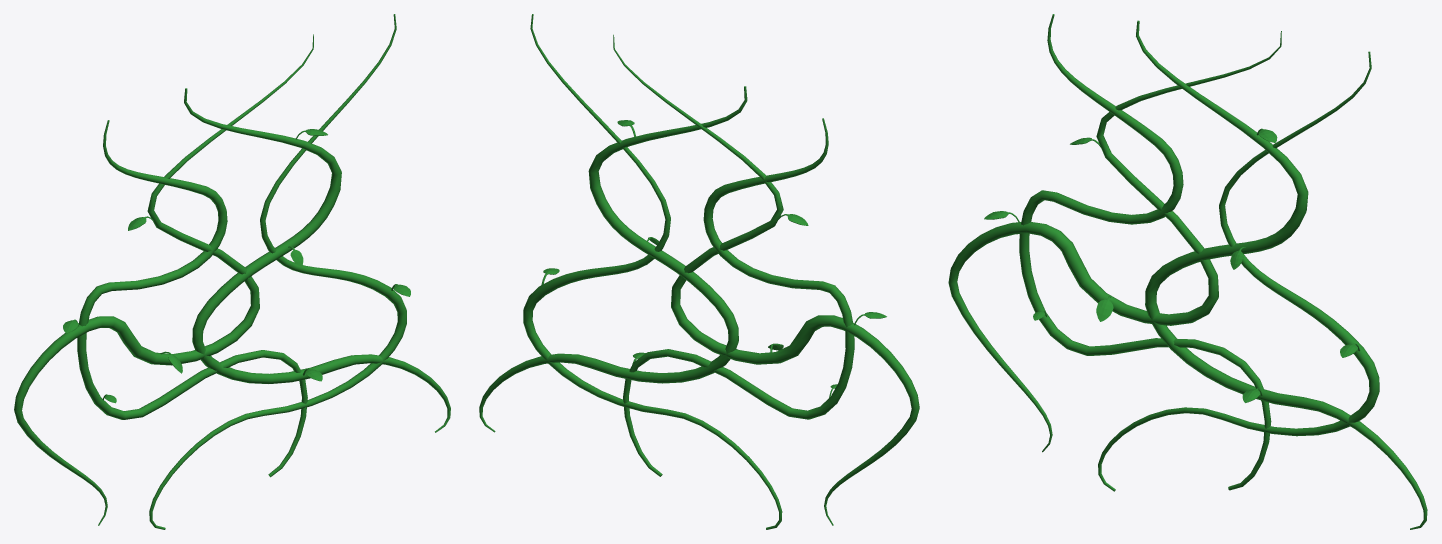
Rendered from enrredaderatrepar.fbx.
3 renders of one model, left to right at view 1: azimuth 30°, elevation 25°; view 2: azimuth 150°, elevation 25°; view 3: azimuth 330°, elevation 25°, orthographic. The views are drawn at different scales.
Visible parts, largest first — view 1: BézierCurve; view 2: BézierCurve; view 3: BézierCurve.
Part boxes in pixels (left/top/right/bottom): BézierCurve: left=14, top=14, right=450, bottom=529; BézierCurve: left=479, top=14, right=919, bottom=529; BézierCurve: left=948, top=14, right=1427, bottom=529.
Bounding box in the file's own units: 569 × 570 × 50.04.
